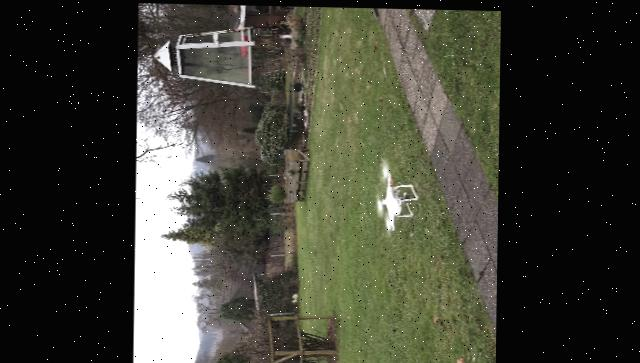drone: (374, 160, 420, 233)
